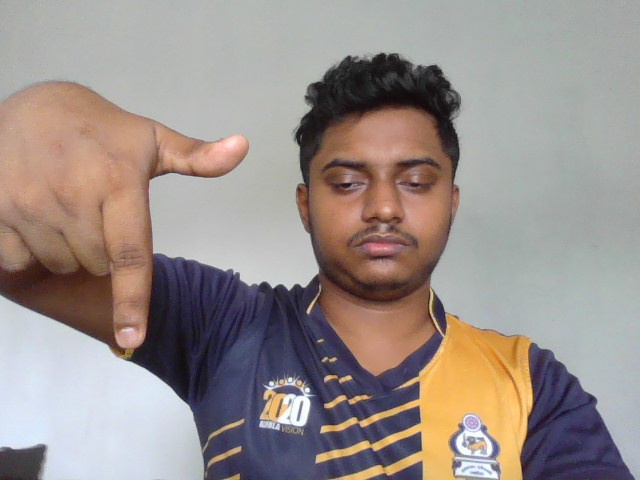Later: (1, 102, 253, 349)
